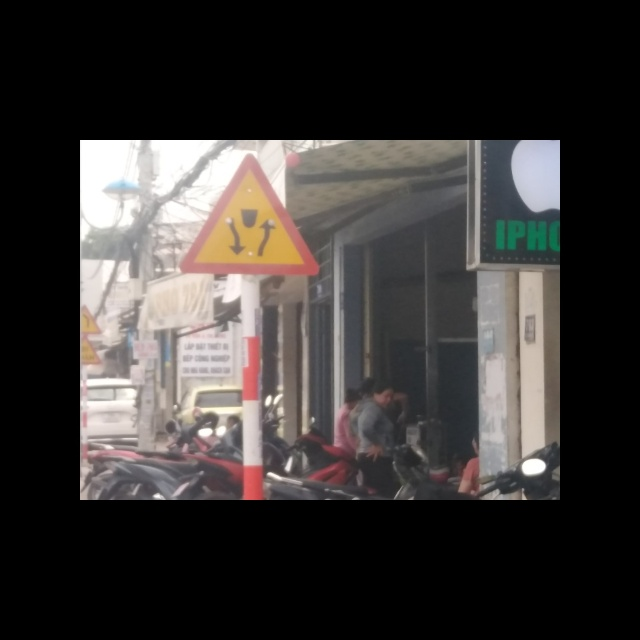Đường đôi: (181, 150, 324, 276)
